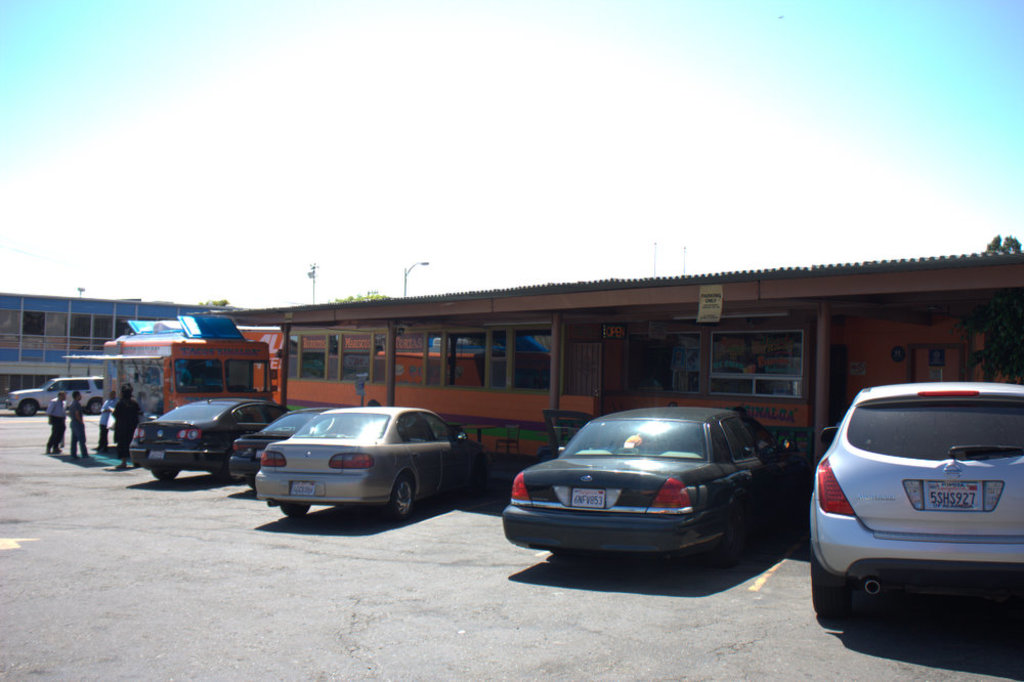Car: (501, 402, 817, 569), (254, 404, 492, 522), (129, 398, 295, 479), (226, 403, 355, 487)
